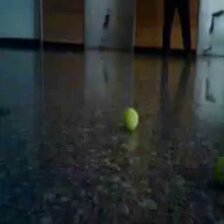tennis: (124, 107, 139, 131)
